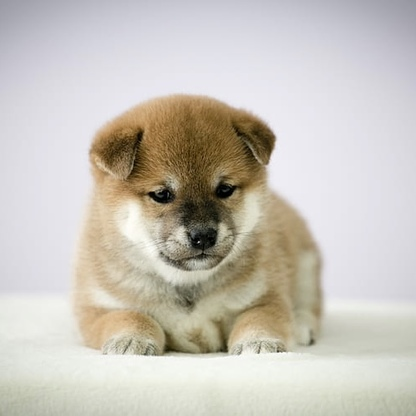shiba: (65, 89, 331, 357)
